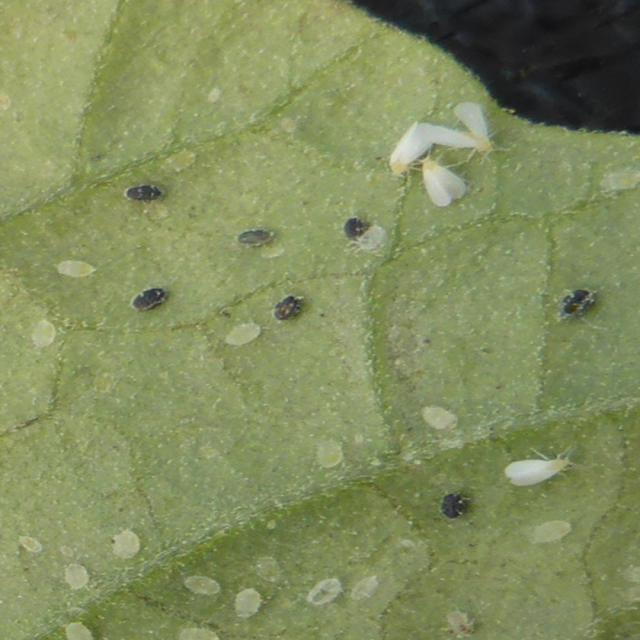Whiteflies: (359, 101, 566, 214), (482, 451, 606, 513)
